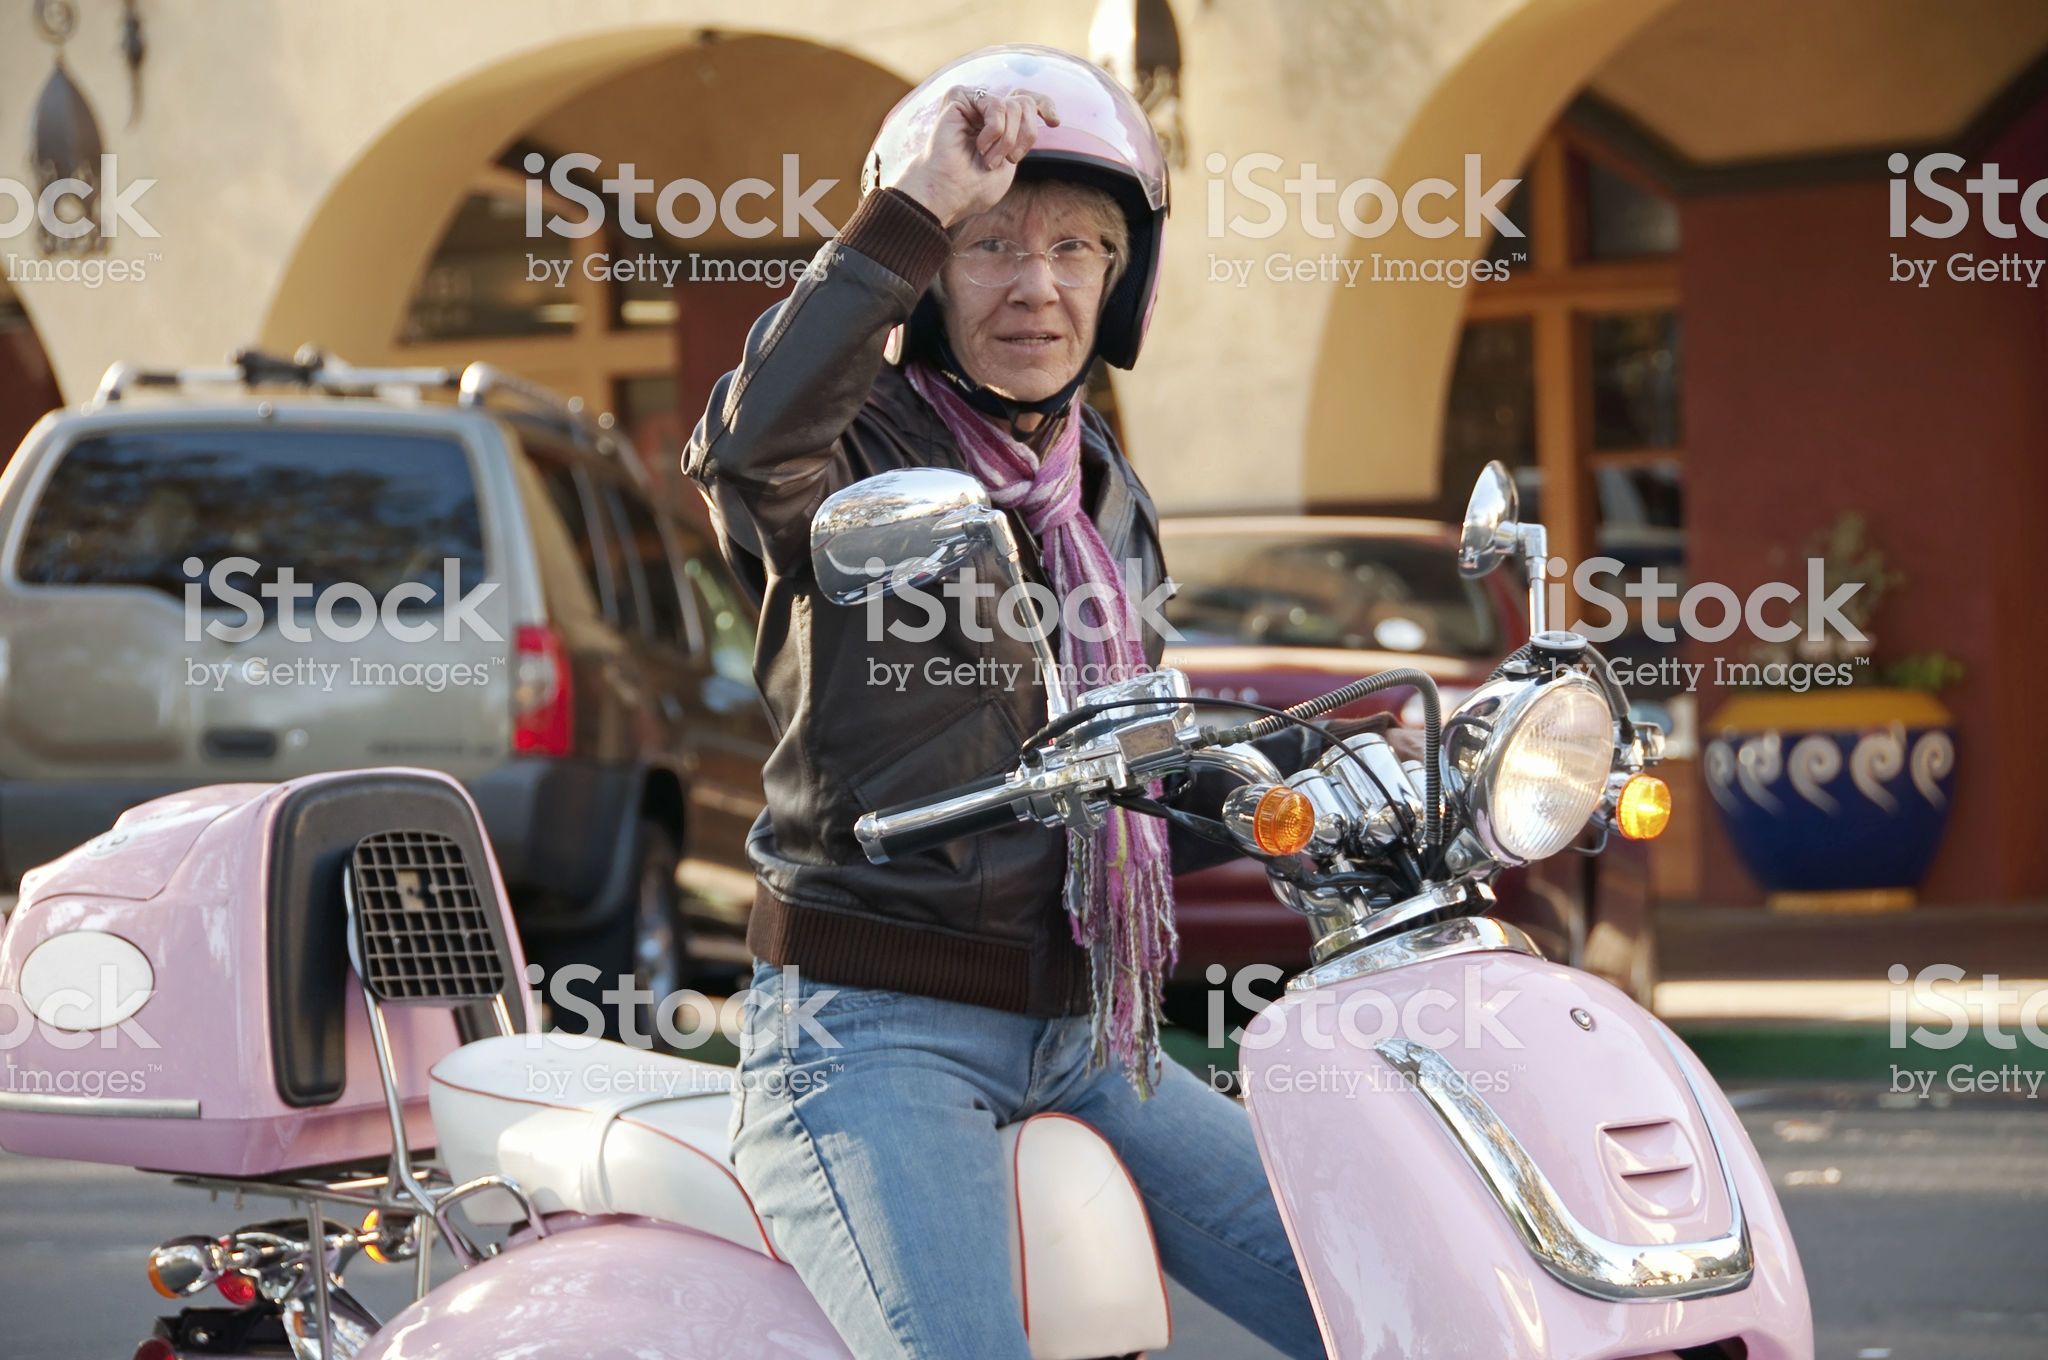helmet: (842, 52, 1154, 220)
